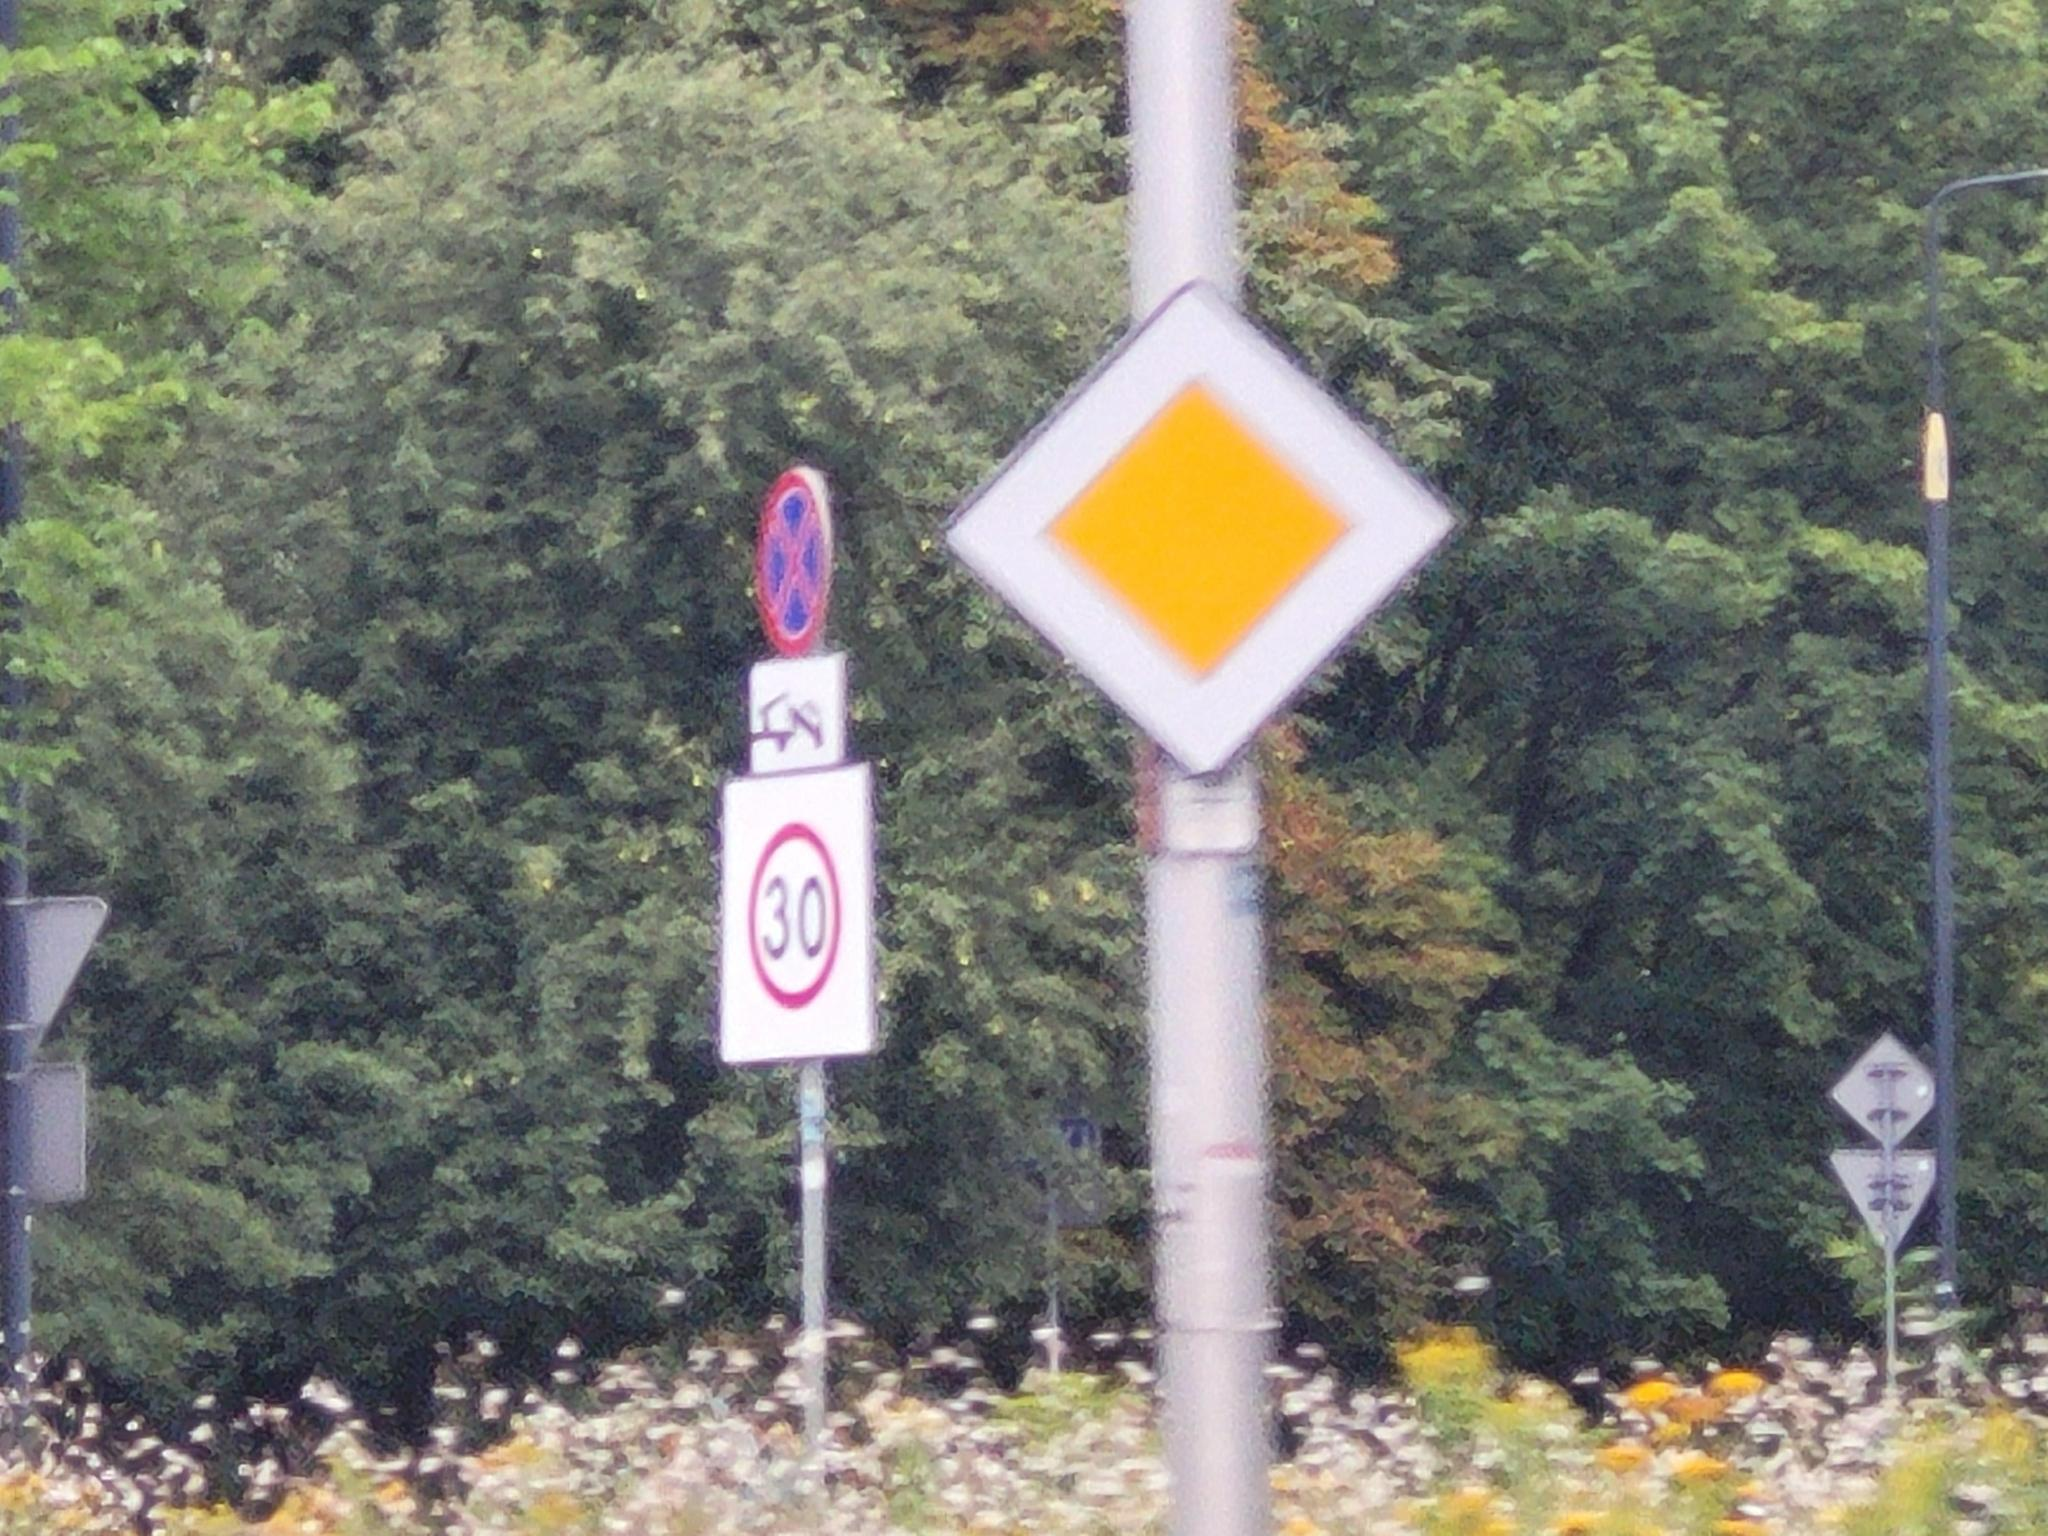information: (942, 276, 1458, 779)
other: (745, 662, 851, 771)
prohibitory: (747, 816, 847, 1013), (751, 463, 832, 653)
